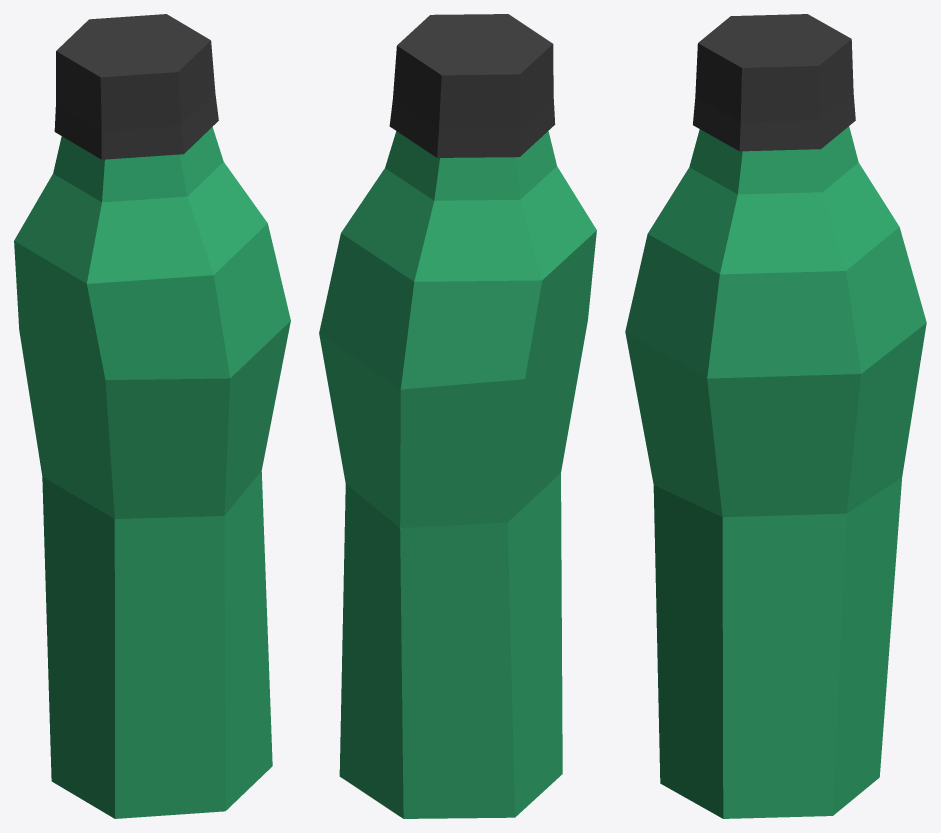
File: Yogaroom_Bottle3.fbx
The picture shows the model from 3 angles, left to right: view 1: azimuth 30°, elevation 25°; view 2: azimuth 150°, elevation 25°; view 3: azimuth 270°, elevation 25°; orthographic projection.
Parts seen in each view (by area): view 1: Yogaroom_Bottle3; view 2: Yogaroom_Bottle3; view 3: Yogaroom_Bottle3.
Boxes of the visible parts, box(x1,y1,x2,y2) form: Yogaroom_Bottle3: box(14, 14, 290, 818); Yogaroom_Bottle3: box(319, 14, 596, 818); Yogaroom_Bottle3: box(625, 14, 926, 818).
Size of the model in its own units: 14.26 by 46.52 by 17.34.
